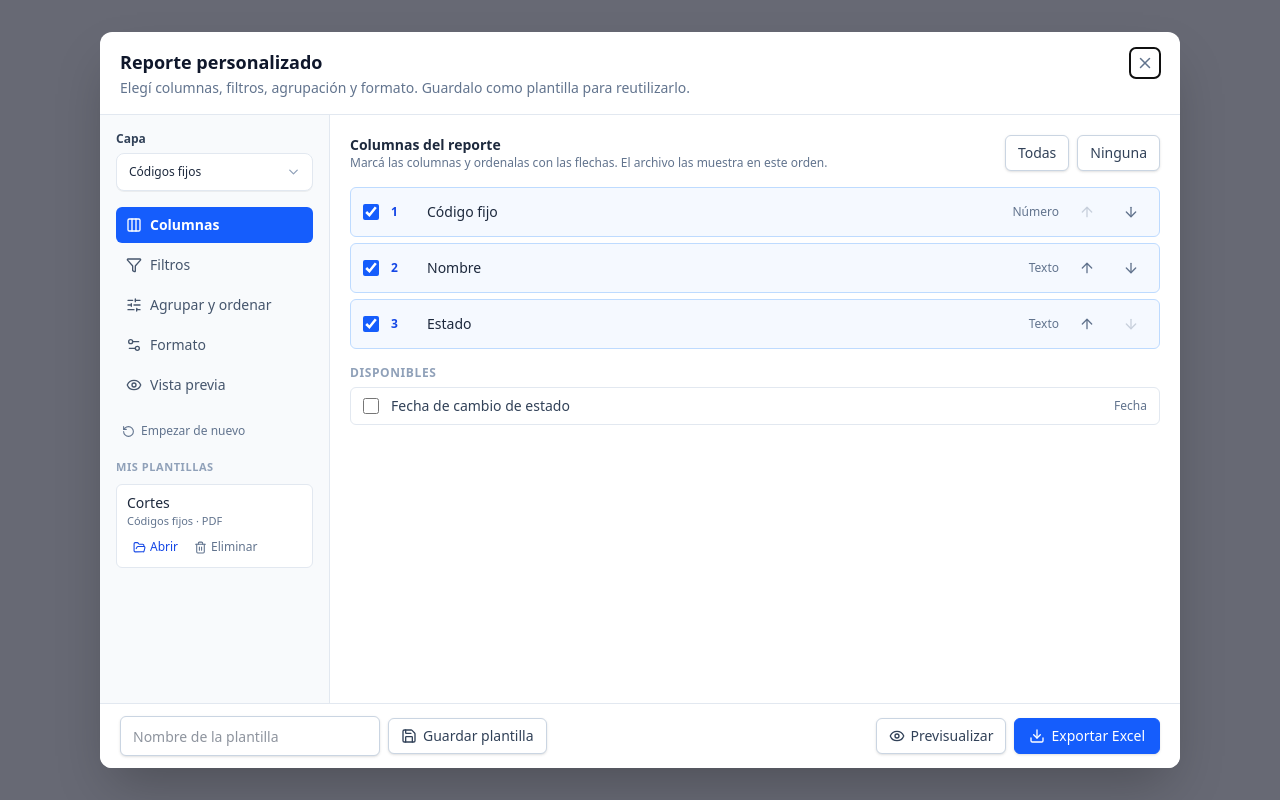
Scenario: ReportBuilderDialog › tracks large reports as background jobs
The width and height of the screenshot is (1280, 800).
Expected: the list named "Columnas seleccionadas" is shown, top-left (350, 187), bottom-right (1160, 349)
Click the button "Exportar Excel" at (1087, 736), box top-left (1014, 718), bottom-right (1160, 754)
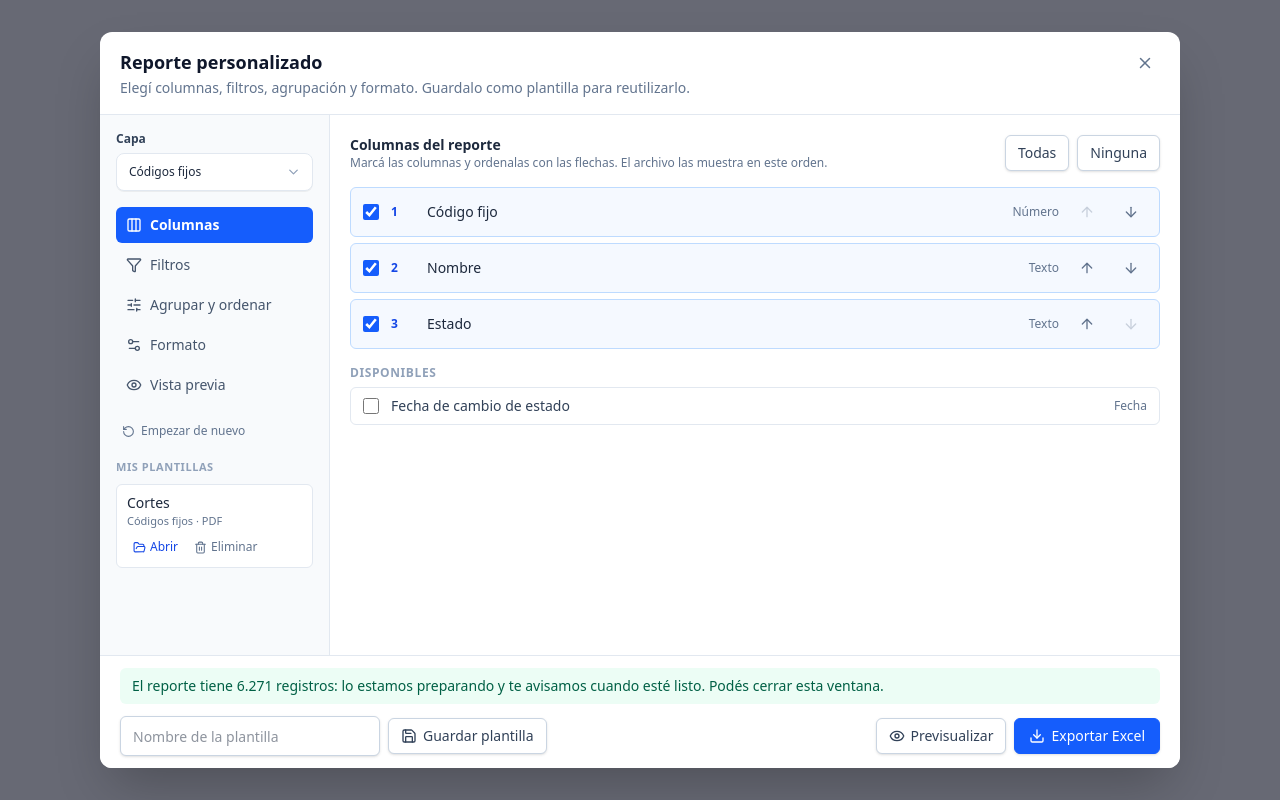
Now the message shows "6.271 registros", box top-left (132, 676), bottom-right (884, 695)
